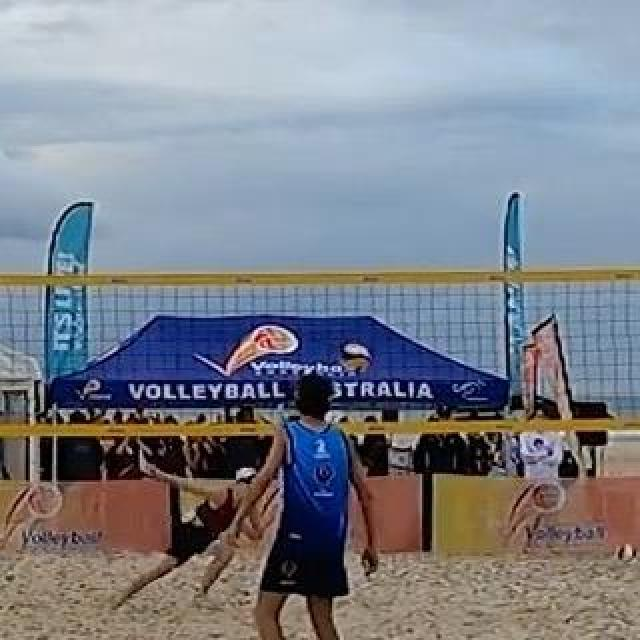volleyball: (341, 342, 369, 370), (617, 545, 635, 563)
